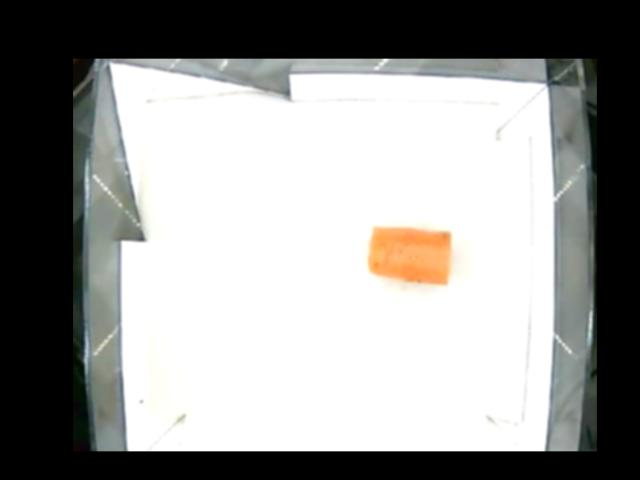Carrot: (368, 225, 454, 286)
